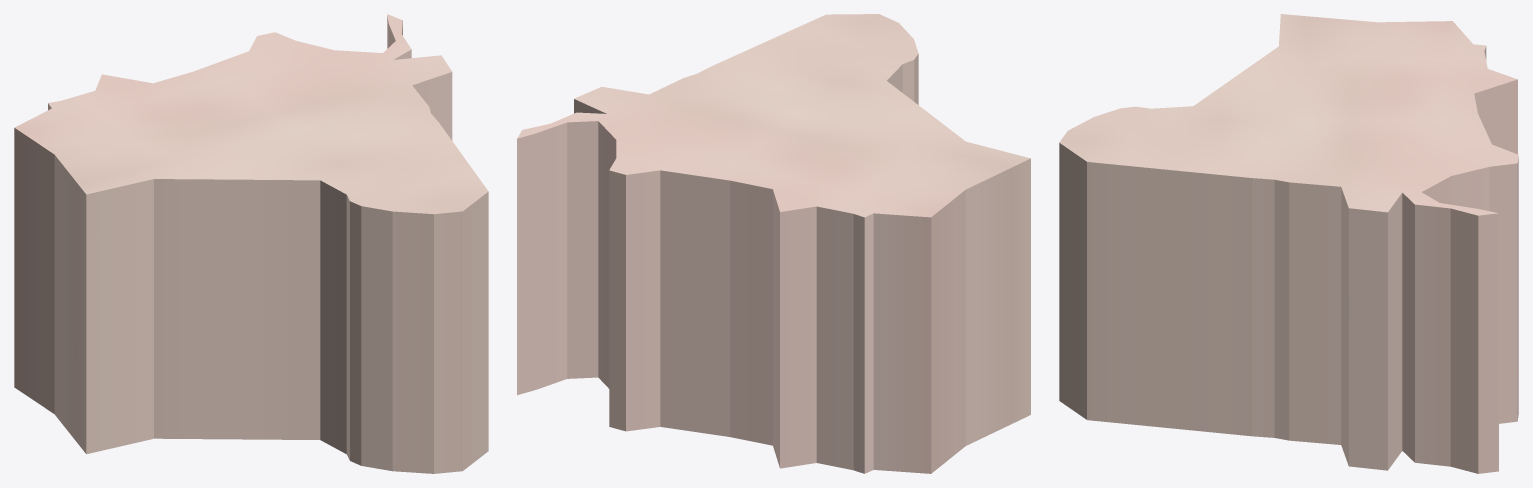
The model's file is carteret.glb.
The picture shows the model from 3 angles, left to right: view 1: azimuth 30°, elevation 25°; view 2: azimuth 150°, elevation 25°; view 3: azimuth 270°, elevation 25°; orthographic projection.
Visible parts, largest first — view 1: Plane.016; view 2: Plane.016; view 3: Plane.016.
Boxes of the visible parts, x1=… form: Plane.016: x1=14, y1=14, x2=488, y2=473; Plane.016: x1=517, y1=14, x2=1030, y2=473; Plane.016: x1=1059, y1=14, x2=1518, y2=473.
Bounding box in the file's own units: 0.6128 × 0.3658 × 0.5899.
1 material, 1 textured.
